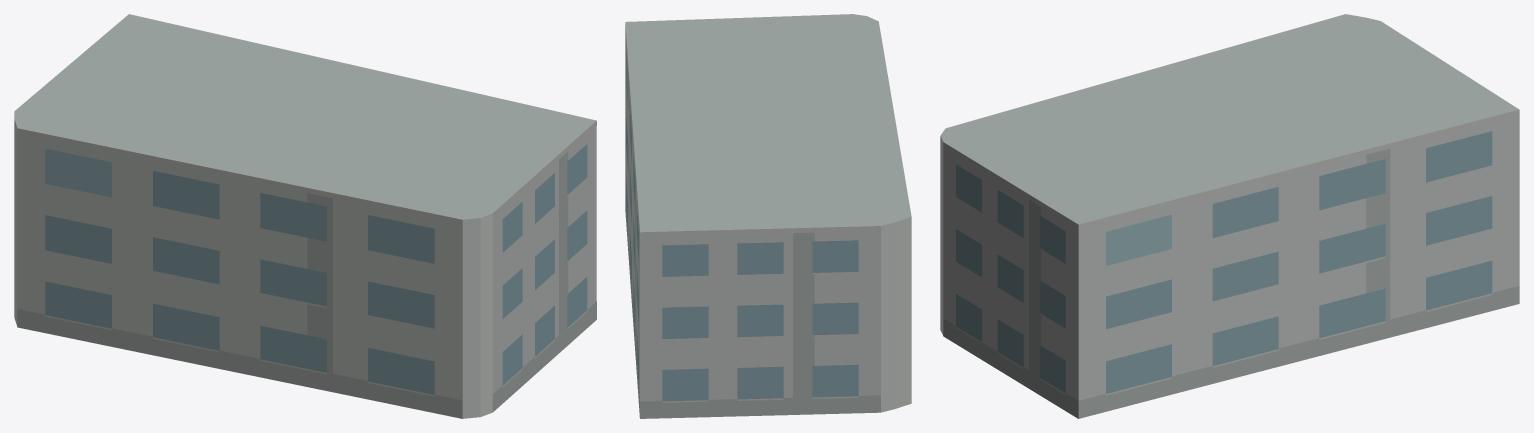
Rendered from survey-upis-32842158.glb.
3 renders of one model, left to right at view 1: azimuth 30°, elevation 25°; view 2: azimuth 150°, elevation 25°; view 3: azimuth 270°, elevation 25°, orthographic. The views are drawn at different scales.
Parts seen in each view (by area): view 1: survey-upis-32842158.tmp; view 2: survey-upis-32842158.tmp; view 3: survey-upis-32842158.tmp.
Boxes of the visible parts, left/top/right/bottom form: survey-upis-32842158.tmp: left=14, top=14, right=596, bottom=418; survey-upis-32842158.tmp: left=625, top=14, right=911, bottom=418; survey-upis-32842158.tmp: left=940, top=14, right=1519, bottom=418.
Size of the model in its own units: 21.28 by 9.15 by 24.72.
